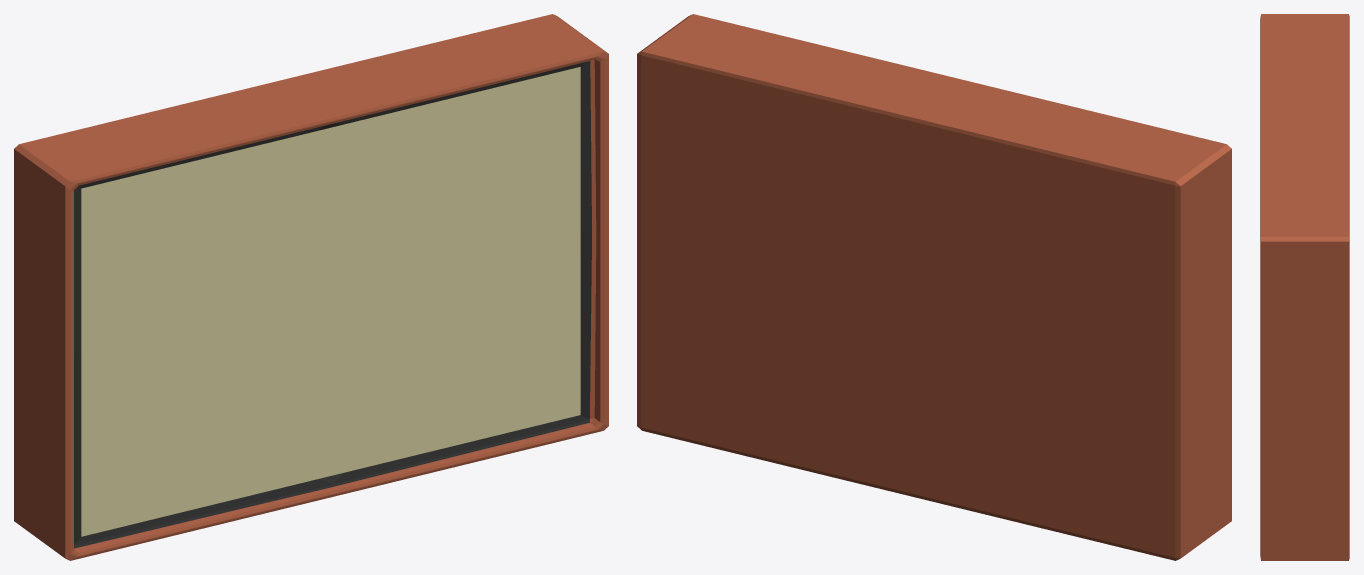
The model's file is switchboard.fbx.
3 views of the same model, side by side, from view 1: azimuth 30°, elevation 25°; view 2: azimuth 150°, elevation 25°; view 3: azimuth 270°, elevation 25° (orthographic). The views are drawn at different scales.
Parts seen in each view (by area): view 1: Cube; view 2: Cube; view 3: Cube.
Part boxes in pixels (box(x1,y1,x2,y2)): Cube: box(14, 14, 608, 560); Cube: box(637, 14, 1231, 560); Cube: box(1260, 14, 1349, 560).
Size of the model in its own units: 200 by 800 by 1200.
